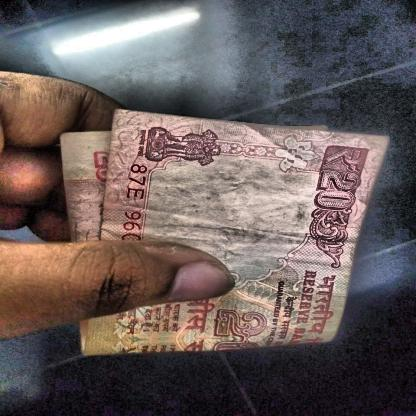Rs20: (305, 142, 381, 219)
